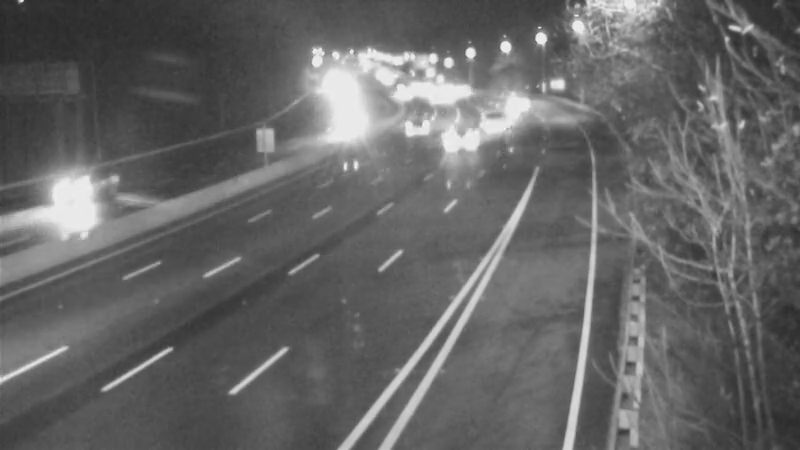vehicle: (30, 153, 110, 233), (409, 73, 459, 123), (491, 75, 541, 125), (470, 94, 520, 144), (394, 101, 444, 151), (434, 115, 484, 165), (324, 96, 374, 146)
